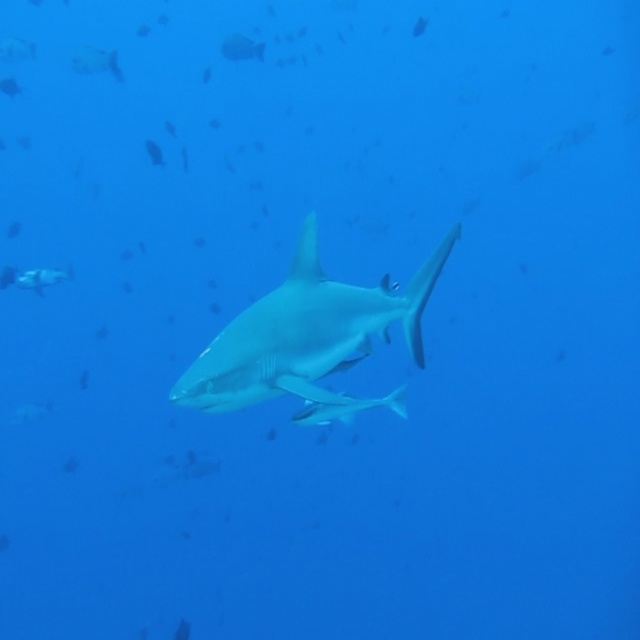Shark: (172, 212, 463, 414)
